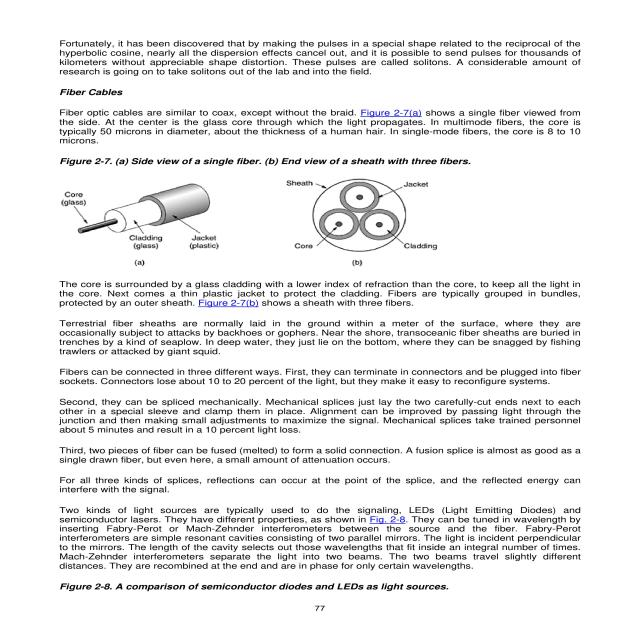diagram: (53, 151, 483, 274)
